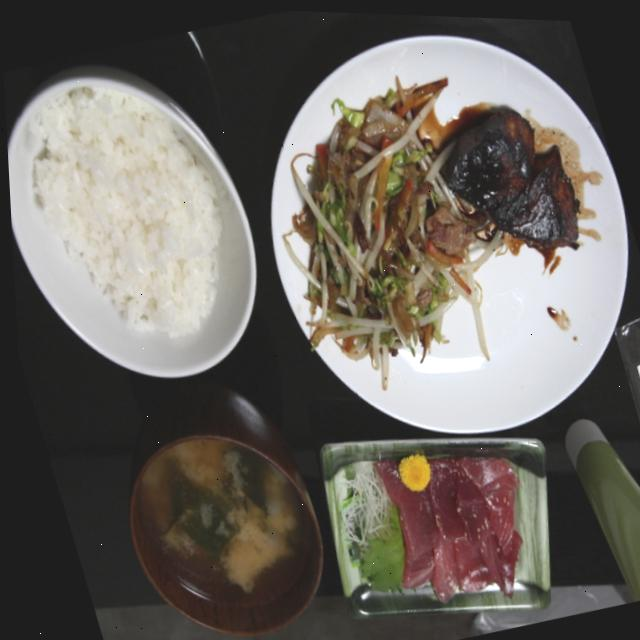刺身生食: (233, 496, 375, 640)
